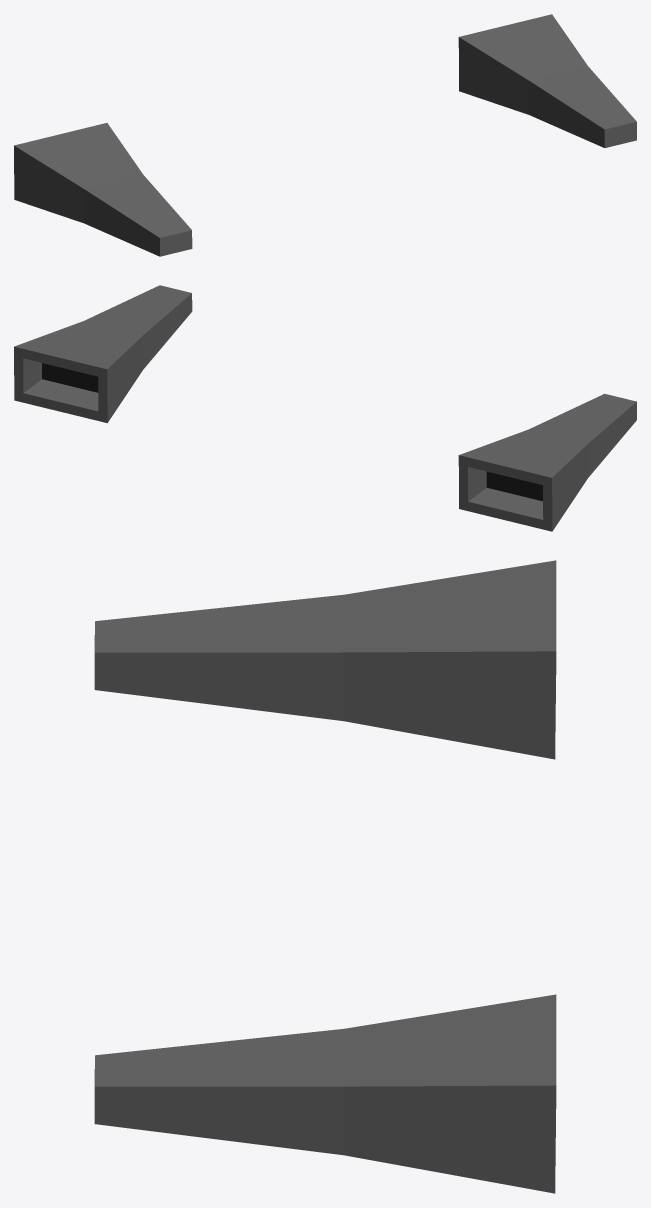
The model's file is exhaust3.glb.
3 views of the same model, one above another, from view 1: azimuth 30°, elevation 25°; view 2: azimuth 150°, elevation 25°; view 3: azimuth 270°, elevation 25° (orthographic). The views are drawn at different scales.
Visible parts, largest first — view 1: exhaust3; view 2: exhaust3; view 3: exhaust3.
Boxes of the visible parts, x1,y1,x2,y2 form: exhaust3: [14, 14, 636, 256]; exhaust3: [14, 285, 636, 531]; exhaust3: [94, 560, 556, 1193].
Size of the model in its own units: 1.77 by 0.1698 by 0.6572.
1 material, 1 textured.
